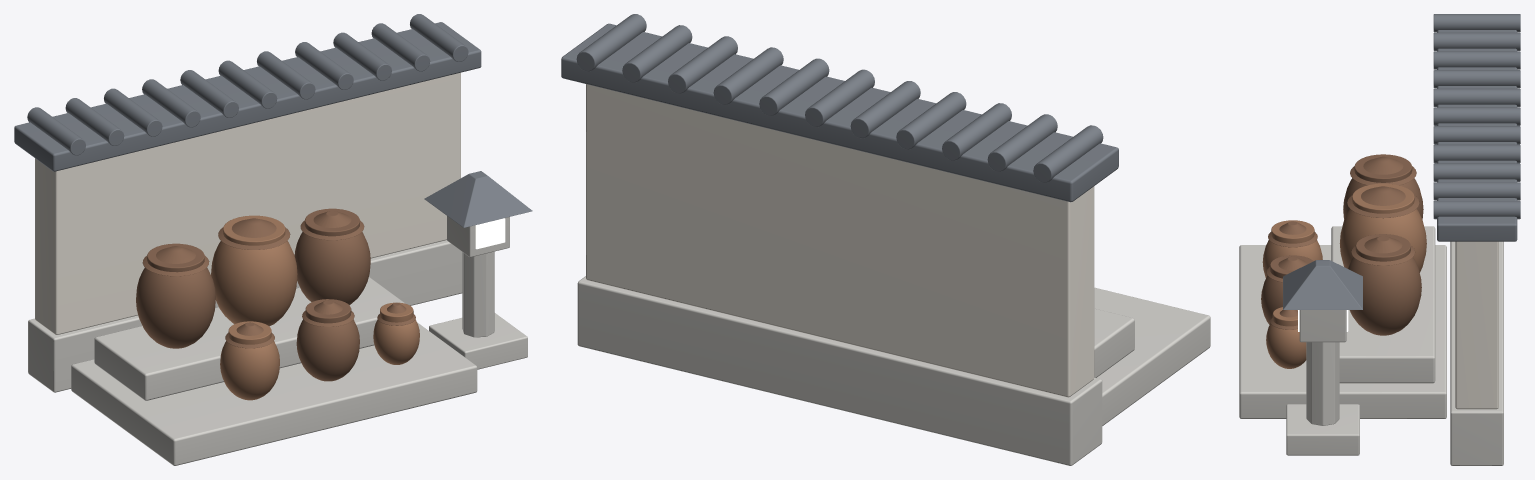
Rendered from hanok_jangdokdae_courtyard_v10.glb.
The picture shows the model from 3 angles, left to right: view 1: azimuth 30°, elevation 25°; view 2: azimuth 150°, elevation 25°; view 3: azimuth 270°, elevation 25°; orthographic projection. The views are drawn at different scales.
Parts seen in each view (by area): view 1: V10_CourtyardStuccoWall, V10_JangdokTier1Stone, V10_GiwaWallEaveCap, V10_JangdokTier2Stone, V10_CourtyardWallBase, V10_OnggiBellyJar_1, V10_OnggiBellyJar_0, V10_OnggiBellyJar_2, V10_LanternRoofCap, V10_OnggiBellyJar_4, V10_LanternBasePlinth, V10_OnggiBellyJar_3 (+25 smaller); view 2: V10_CourtyardStuccoWall, V10_CourtyardWallBase, V10_GiwaWallEaveCap, V10_JangdokTier1Stone, V10_JangdokTier2Stone, V10_GiwaRidgeRoll.003, V10_GiwaRidgeRoll.007, V10_GiwaRidgeRoll.009, V10_GiwaRidgeRoll.001, V10_GiwaRidgeRoll.008, V10_GiwaRidgeRoll, V10_GiwaRidgeRoll.004 (+4 smaller); view 3: V10_JangdokTier1Stone, V10_CourtyardStuccoWall, V10_JangdokTier2Stone, V10_CourtyardWallBase, V10_GiwaWallEaveCap, V10_OnggiBellyJar_2, V10_LanternRoofCap, V10_LanternBasePlinth, V10_LanternOctagonShaft, V10_OnggiBellyJar_1, V10_LanternLightChamber, V10_GiwaRidgeRoll.007 (+25 smaller).
Boxes of the visible parts, <box> form: V10_CourtyardStuccoWall: <box>35,72,460,334</box>; V10_JangdokTier1Stone: <box>71,322,477,465</box>; V10_GiwaWallEaveCap: <box>14,22,481,171</box>; V10_JangdokTier2Stone: <box>94,277,413,400</box>; V10_CourtyardWallBase: <box>28,240,462,392</box>; V10_OnggiBellyJar_1: <box>211,241,297,326</box>; V10_OnggiBellyJar_0: <box>136,268,215,348</box>; V10_OnggiBellyJar_2: <box>294,232,370,304</box>; V10_LanternRoofCap: <box>424,171,532,227</box>; V10_OnggiBellyJar_4: <box>296,319,359,381</box>; V10_LanternBasePlinth: <box>429,313,527,369</box>; V10_OnggiBellyJar_3: <box>220,341,279,400</box>; V10_CourtyardStuccoWall: <box>586,84,1094,397</box>; V10_CourtyardWallBase: <box>577,276,1102,465</box>; V10_GiwaWallEaveCap: <box>561,23,1118,202</box>; V10_JangdokTier1Stone: <box>1094,287,1210,425</box>; V10_JangdokTier2Stone: <box>1094,308,1134,377</box>; V10_GiwaRidgeRoll.003: <box>896,92,966,149</box>; V10_GiwaRidgeRoll.007: <box>713,47,783,104</box>; V10_GiwaRidgeRoll.009: <box>622,25,692,82</box>; V10_GiwaRidgeRoll.001: <box>987,114,1057,171</box>; V10_GiwaRidgeRoll.008: <box>668,36,737,93</box>; V10_GiwaRidgeRoll: <box>1033,125,1103,182</box>; V10_GiwaRidgeRoll.004: <box>850,81,920,138</box>; V10_JangdokTier1Stone: <box>1239,245,1446,418</box>; V10_CourtyardStuccoWall: <box>1455,241,1498,409</box>; V10_JangdokTier2Stone: <box>1331,226,1435,383</box>; V10_CourtyardWallBase: <box>1450,241,1503,465</box>; V10_GiwaWallEaveCap: <box>1437,30,1517,241</box>; V10_OnggiBellyJar_2: <box>1348,257,1421,335</box>; V10_LanternRoofCap: <box>1283,260,1362,309</box>; V10_LanternBasePlinth: <box>1286,404,1359,455</box>; V10_LanternOctagonShaft: <box>1306,342,1339,425</box>; V10_OnggiBellyJar_1: <box>1339,209,1426,272</box>; V10_LanternLightChamber: <box>1299,310,1346,342</box>; V10_GiwaRidgeRoll.007: <box>1433,144,1520,163</box>.
Size of the model in its own units: 2.96 by 1.69 by 1.68.
